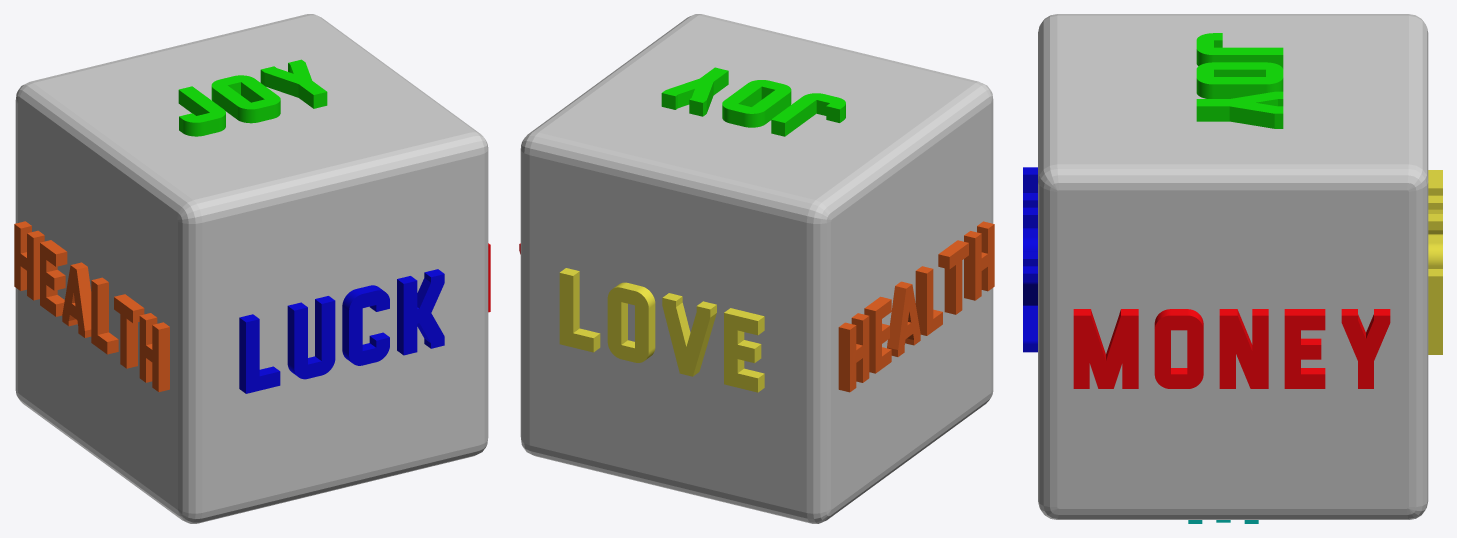
Rendered from test (copia).fbx.
The picture shows the model from 3 angles, left to right: view 1: azimuth 30°, elevation 25°; view 2: azimuth 150°, elevation 25°; view 3: azimuth 270°, elevation 25°; orthographic projection. The views are drawn at different scales.
Visible parts, largest first — view 1: Cube; view 2: Cube; view 3: Cube.
Part boxes in pixels (x1,y1,x2,y2): Cube: (14, 14, 490, 523); Cube: (519, 14, 994, 523); Cube: (1023, 14, 1442, 523).
Size of what is drawn, in the model's own units: 574 by 579 by 574.
